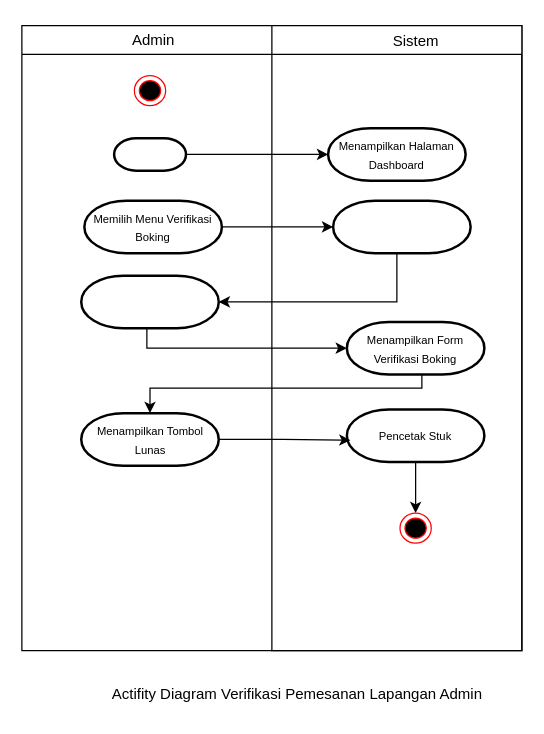
This 544x734 diagram has some shape labels left out. Each missing label, with the centre of its shape:
"login" goes at point (149, 153).
"Memilih tombol boking" goes at point (149, 301).
"Menampilkan data boking" goes at point (401, 226).
